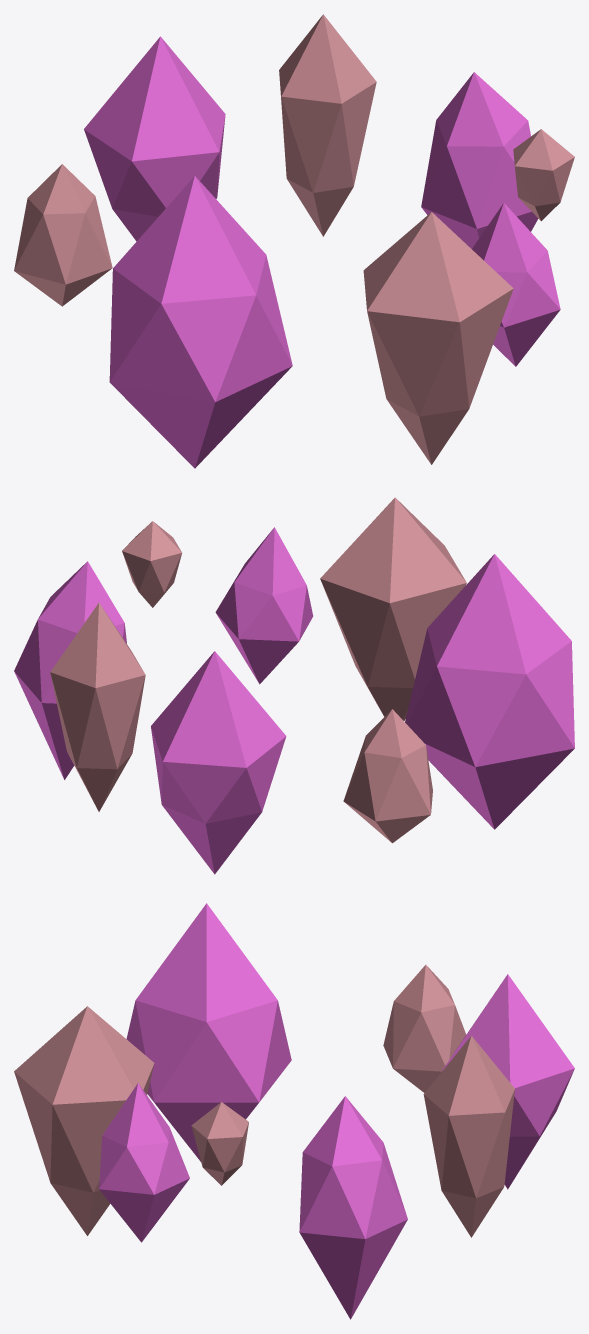
File: crystal_crown.dae
3 views of the same model, one above another, from view 1: azimuth 30°, elevation 25°; view 2: azimuth 150°, elevation 25°; view 3: azimuth 270°, elevation 25° (orthographic). The views are drawn at different scales.
Visible parts, largest first — view 1: Icosphere; view 2: Icosphere; view 3: Icosphere.
Part boxes in pixels (x1=…): Icosphere: x1=14, y1=14, x2=574, y2=468; Icosphere: x1=14, y1=497, x2=574, y2=874; Icosphere: x1=14, y1=903, x2=574, y2=1319.
Bounding box in the file's own units: 3.62 × 3.82 × 2.
